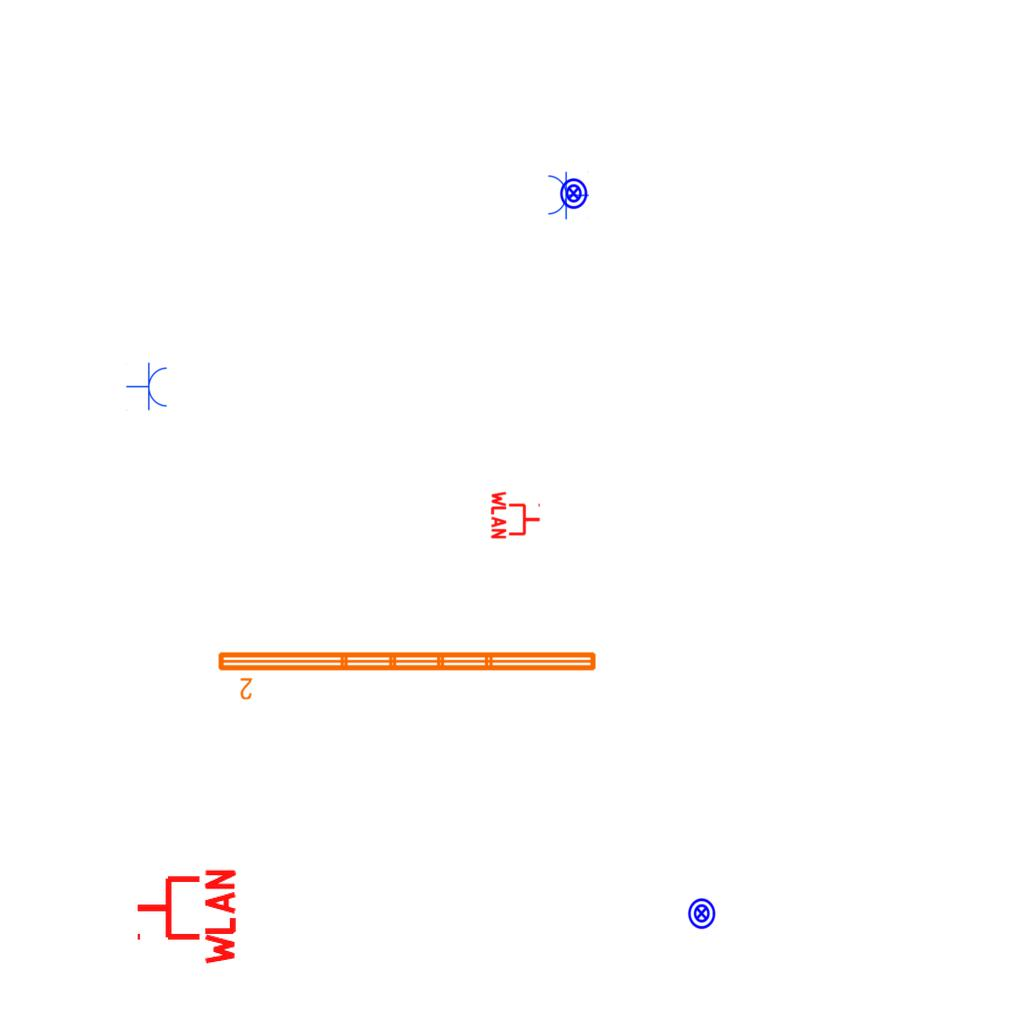Ambulanz_Pendelleuchte_LED: (214, 646, 601, 702)
Schukosteckdose_einfach: (126, 362, 169, 412), (546, 170, 589, 220)
Taster_beleuchtet: (685, 897, 718, 930), (557, 177, 590, 210)
WLAN: (133, 865, 238, 969), (490, 489, 542, 541)
